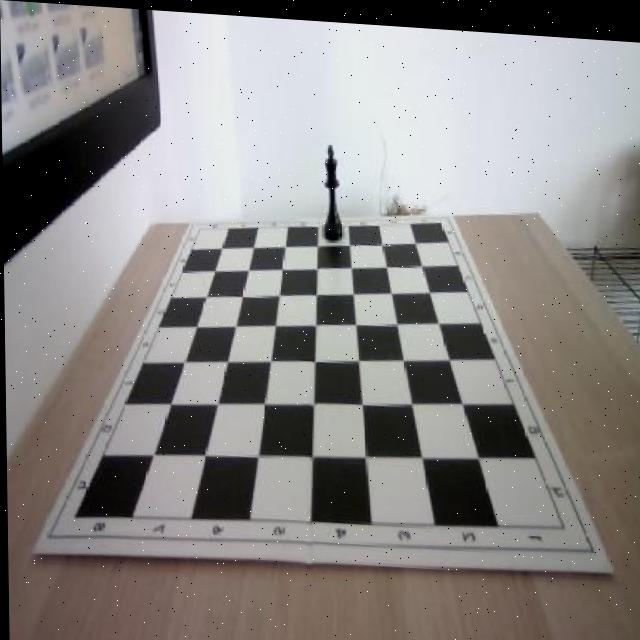black-bishop: (319, 140, 344, 240)
